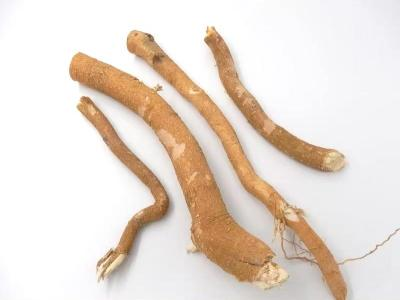Root: (126, 30, 346, 299), (70, 53, 286, 289), (204, 26, 344, 171), (77, 96, 168, 280)
